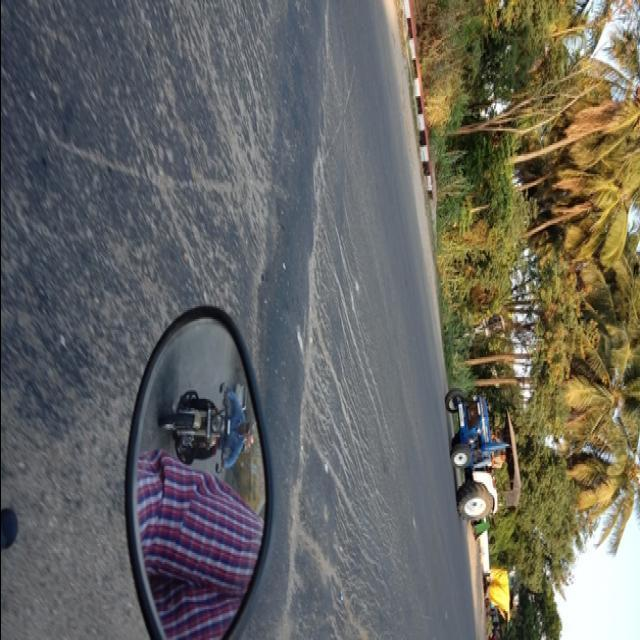speedbreaker: (260, 1, 334, 427)
